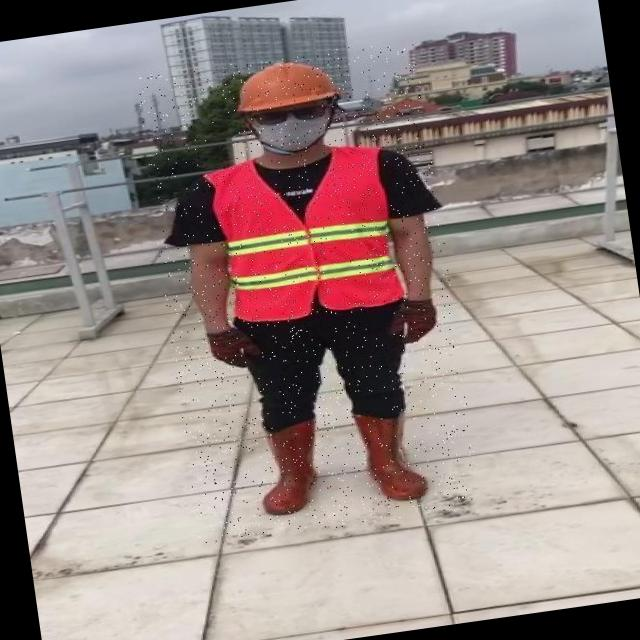hard_hat: (222, 56, 346, 115)
safety_vest: (200, 138, 412, 328)
vehicle: (135, 38, 482, 548)
work_boots: (354, 402, 432, 509), (254, 416, 328, 516)
